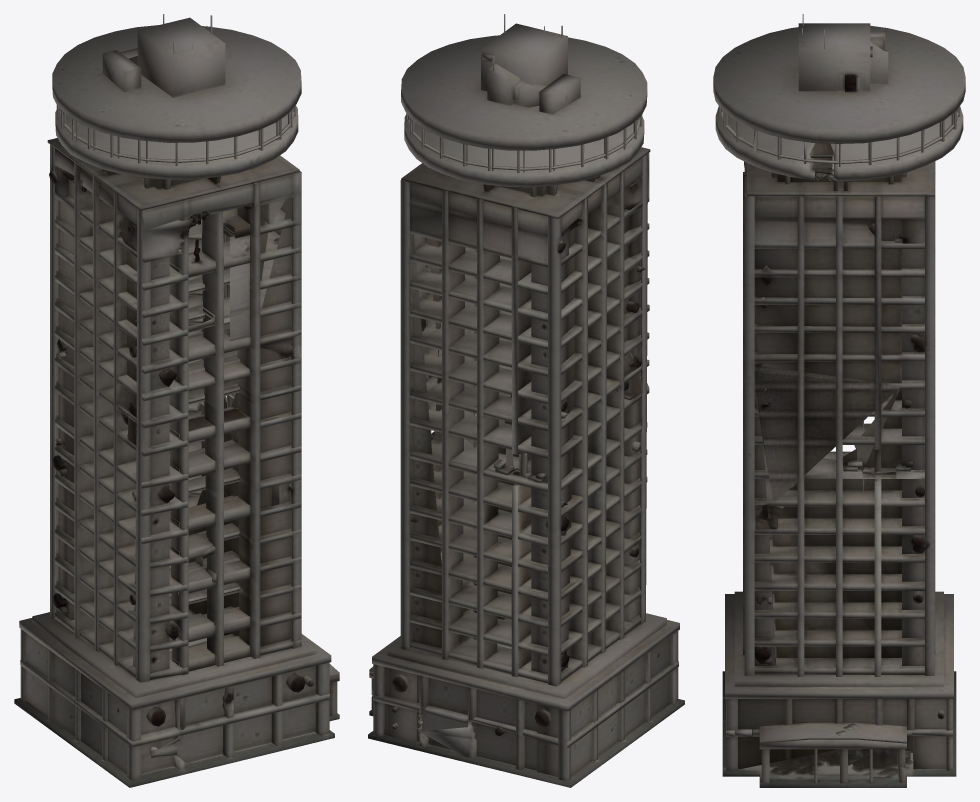
File: holidayinn.glb
The picture shows the model from 3 angles, left to right: view 1: azimuth 30°, elevation 25°; view 2: azimuth 150°, elevation 25°; view 3: azimuth 270°, elevation 25°; orthographic projection. The views are drawn at different scales.
Parts seen in each view (by area): view 1: tripo_node_c7c3be61-a5a6-4f89-98cc-1c5802d8ac7b; view 2: tripo_node_c7c3be61-a5a6-4f89-98cc-1c5802d8ac7b; view 3: tripo_node_c7c3be61-a5a6-4f89-98cc-1c5802d8ac7b.
Part boxes in pixels (box(x1,y1,x2,y2)): tripo_node_c7c3be61-a5a6-4f89-98cc-1c5802d8ac7b: box(14, 14, 339, 787); tripo_node_c7c3be61-a5a6-4f89-98cc-1c5802d8ac7b: box(368, 14, 684, 787); tripo_node_c7c3be61-a5a6-4f89-98cc-1c5802d8ac7b: box(713, 14, 965, 787).
Size of the model in its own units: 0.3442 by 0.9995 by 0.3218.
1 material, 1 textured.
